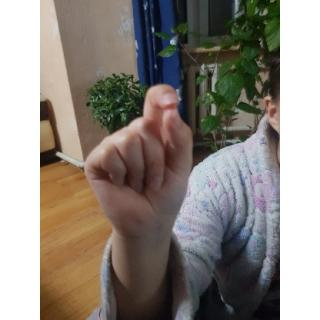FAA: (80, 80, 196, 256)
